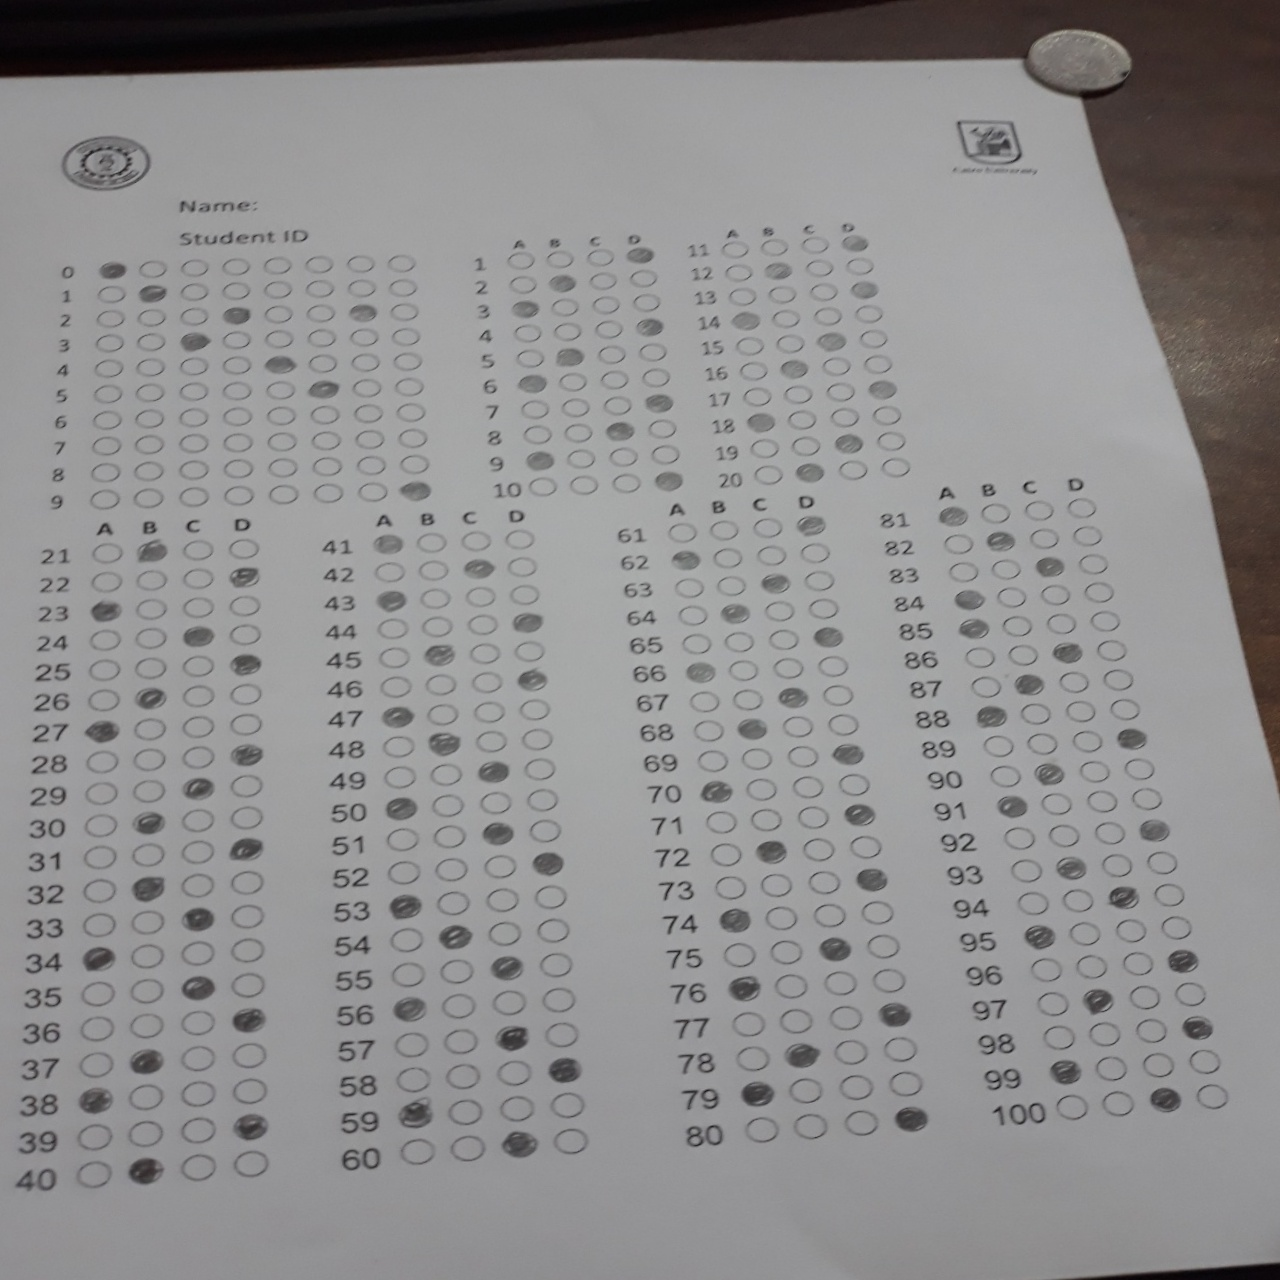not-c: (75, 1050, 117, 1078), (124, 1083, 166, 1111), (712, 571, 751, 600), (179, 1117, 222, 1144), (122, 1118, 164, 1145), (175, 1152, 217, 1179), (74, 1160, 114, 1189), (74, 1124, 115, 1151), (230, 1150, 271, 1177), (175, 1080, 215, 1107), (227, 1076, 268, 1102), (679, 629, 712, 658), (553, 1126, 586, 1155), (1099, 851, 1133, 878), (1071, 726, 1105, 753), (1046, 611, 1080, 638), (1112, 915, 1146, 942), (1073, 952, 1107, 979), (1054, 1092, 1088, 1119), (1099, 1089, 1133, 1116), (758, 871, 792, 898), (813, 900, 847, 927), (467, 639, 501, 666), (377, 670, 411, 697), (527, 817, 561, 844), (539, 951, 573, 978), (132, 566, 166, 593), (229, 680, 263, 707), (229, 771, 263, 798), (229, 803, 263, 830), (231, 1040, 265, 1067), (91, 326, 125, 353), (311, 481, 346, 506), (132, 379, 169, 403), (259, 380, 295, 404), (135, 622, 166, 651), (989, 553, 1022, 580), (1001, 612, 1034, 639), (962, 644, 995, 670), (941, 527, 974, 554), (1016, 888, 1049, 915), (1037, 989, 1070, 1016), (1088, 1021, 1121, 1048), (1133, 1017, 1166, 1044), (799, 539, 832, 566), (754, 515, 787, 542), (754, 543, 787, 570), (710, 545, 743, 572), (801, 570, 833, 597), (676, 602, 709, 629), (726, 658, 758, 685), (787, 741, 819, 768), (838, 771, 871, 798), (802, 835, 835, 862), (731, 1012, 764, 1039), (833, 1037, 866, 1064), (735, 1044, 768, 1071), (888, 1070, 921, 1097), (503, 552, 536, 579), (508, 583, 540, 610), (464, 583, 497, 610), (418, 583, 451, 610), (421, 612, 454, 639), (377, 615, 410, 642), (376, 642, 409, 669), (424, 670, 457, 697), (427, 699, 459, 726), (472, 726, 505, 753), (524, 755, 557, 782), (383, 764, 416, 791), (433, 791, 465, 818), (525, 787, 558, 813), (433, 824, 465, 851), (532, 881, 565, 908), (437, 887, 470, 914), (486, 919, 519, 946), (444, 1027, 477, 1054), (447, 1062, 479, 1089), (501, 1094, 533, 1121), (182, 564, 215, 591), (182, 593, 215, 620), (135, 595, 168, 622), (183, 683, 216, 710), (230, 710, 263, 737), (130, 840, 163, 867), (230, 937, 263, 964), (80, 1014, 113, 1041), (182, 1007, 215, 1034), (93, 352, 125, 379), (1092, 819, 1126, 845), (1017, 700, 1051, 726), (761, 597, 795, 622), (710, 842, 744, 867), (713, 874, 747, 900), (806, 869, 840, 894), (824, 968, 858, 994), (829, 1003, 863, 1029), (794, 1112, 828, 1138), (417, 557, 451, 583), (467, 611, 501, 636), (471, 697, 505, 723), (441, 993, 475, 1019), (401, 1138, 435, 1164), (89, 540, 123, 566), (181, 808, 215, 833), (229, 904, 263, 930), (129, 907, 163, 933), (82, 911, 116, 937), (181, 1046, 215, 1071), (90, 488, 124, 513), (220, 482, 256, 506), (178, 380, 213, 404), (178, 353, 213, 377), (258, 325, 293, 349), (302, 325, 338, 349), (304, 353, 339, 377), (519, 421, 554, 445), (738, 386, 774, 410), (735, 359, 770, 383), (799, 229, 835, 253), (1085, 787, 1117, 813), (1028, 523, 1060, 550), (994, 583, 1026, 610), (982, 731, 1014, 758), (1030, 955, 1062, 982), (708, 516, 740, 543), (828, 712, 859, 738), (782, 712, 813, 738), (791, 772, 823, 799), (764, 903, 796, 930), (381, 733, 413, 760), (435, 855, 467, 881), (483, 851, 515, 878), (229, 535, 260, 561), (227, 621, 259, 648), (131, 1012, 163, 1039), (90, 379, 122, 406), (264, 457, 300, 481), (177, 354, 213, 377), (218, 327, 254, 350), (260, 252, 297, 275), (300, 251, 336, 274), (305, 275, 341, 299), (306, 401, 342, 424), (354, 477, 390, 501), (386, 275, 422, 299), (511, 347, 547, 370), (564, 449, 600, 472), (610, 471, 646, 495), (595, 368, 632, 392), (622, 266, 659, 290), (721, 285, 757, 308), (789, 434, 825, 457), (823, 380, 859, 403), (856, 354, 892, 377), (1124, 754, 1157, 779), (1080, 757, 1112, 783), (1040, 583, 1073, 608), (1023, 495, 1056, 520), (979, 499, 1012, 525), (1026, 730, 1058, 756), (1040, 790, 1073, 816), (948, 559, 981, 585), (1062, 886, 1095, 912), (1158, 913, 1191, 939), (1121, 948, 1153, 974), (1042, 1024, 1075, 1050), (1095, 1055, 1128, 1081), (1197, 1082, 1230, 1108), (672, 576, 704, 601), (803, 597, 836, 622), (723, 628, 756, 654), (730, 686, 763, 712), (819, 682, 852, 708), (694, 716, 727, 742), (696, 748, 729, 774), (704, 808, 737, 833), (749, 805, 782, 831), (795, 804, 828, 830), (849, 832, 881, 858), (860, 898, 893, 924), (871, 966, 904, 992), (775, 972, 808, 998), (743, 1116, 776, 1142), (504, 525, 537, 551), (512, 638, 545, 663), (469, 668, 502, 694), (517, 695, 550, 721), (430, 761, 463, 787), (481, 791, 513, 817), (486, 885, 519, 911), (392, 926, 424, 952), (393, 961, 425, 987), (491, 988, 524, 1014), (542, 986, 574, 1012), (546, 1021, 579, 1047), (396, 1030, 429, 1056), (396, 1067, 429, 1092), (497, 1060, 530, 1085), (448, 1099, 481, 1125), (182, 537, 215, 563), (89, 568, 122, 594), (229, 592, 261, 618), (182, 652, 215, 678), (134, 653, 166, 679), (87, 658, 120, 683), (135, 716, 168, 742), (182, 743, 215, 769), (182, 839, 215, 865), (230, 870, 263, 896), (182, 871, 215, 897), (83, 878, 116, 904), (131, 942, 164, 968), (182, 939, 215, 965), (231, 972, 264, 998), (130, 979, 163, 1005), (88, 459, 121, 485), (88, 406, 121, 431), (1144, 850, 1178, 874), (1058, 668, 1092, 693), (971, 675, 1005, 700), (771, 654, 805, 679), (839, 1075, 873, 1099), (384, 826, 418, 851), (132, 302, 166, 327), (217, 379, 251, 403), (224, 277, 258, 301), (388, 326, 422, 350), (636, 340, 670, 365), (134, 257, 169, 280), (264, 481, 299, 504), (260, 278, 295, 301), (356, 451, 392, 475), (347, 324, 382, 347), (343, 250, 379, 273), (400, 451, 435, 475), (511, 319, 546, 342), (509, 272, 544, 295), (543, 248, 578, 272), (561, 418, 597, 442), (571, 471, 606, 495), (595, 342, 631, 366), (594, 315, 629, 339), (592, 292, 627, 315), (629, 292, 665, 315), (648, 443, 683, 467), (745, 435, 781, 458), (735, 332, 770, 355), (719, 263, 754, 286), (763, 282, 798, 306), (772, 331, 808, 354), (835, 457, 870, 481), (799, 253, 835, 277), (879, 457, 914, 481), (1110, 695, 1142, 721), (1131, 785, 1163, 811), (1065, 697, 1097, 723), (1048, 822, 1080, 847), (1012, 856, 1043, 881), (1003, 826, 1035, 852), (990, 763, 1022, 789), (1152, 880, 1184, 906), (1070, 920, 1102, 946), (1143, 1051, 1175, 1077), (769, 626, 801, 652), (687, 687, 719, 713), (745, 774, 777, 799), (866, 932, 898, 958), (884, 1035, 915, 1061), (845, 1109, 877, 1135), (519, 727, 551, 753), (537, 917, 568, 942), (552, 1091, 584, 1117), (181, 713, 212, 738), (132, 779, 164, 805), (84, 811, 116, 837), (82, 845, 114, 871), (130, 433, 166, 455), (387, 302, 423, 325), (755, 238, 791, 260), (1007, 641, 1040, 666), (1186, 1048, 1219, 1073), (665, 519, 697, 544), (818, 654, 851, 679), (738, 745, 771, 770), (722, 942, 755, 967), (768, 939, 801, 964), (788, 1076, 821, 1101), (457, 526, 490, 551), (413, 531, 445, 556), (374, 559, 407, 584), (387, 859, 420, 884), (440, 959, 472, 983), (450, 1136, 483, 1160), (89, 627, 122, 652), (86, 689, 118, 714), (84, 748, 117, 772), (132, 748, 165, 772), (86, 779, 118, 804), (81, 980, 114, 1005), (89, 433, 122, 457), (135, 355, 169, 379), (132, 488, 166, 511), (178, 304, 212, 327), (392, 400, 425, 423), (526, 474, 560, 497), (608, 444, 642, 468), (583, 245, 617, 268), (638, 366, 672, 389), (765, 307, 799, 331), (783, 382, 817, 406), (783, 407, 817, 430), (828, 407, 862, 430), (821, 354, 855, 377), (842, 256, 876, 279), (93, 306, 128, 328), (132, 406, 168, 428), (177, 459, 212, 482), (176, 406, 211, 428), (263, 404, 298, 427), (257, 302, 292, 325), (178, 257, 213, 279), (300, 301, 335, 324), (349, 348, 384, 370), (350, 375, 386, 397), (517, 399, 552, 421), (504, 246, 539, 268), (554, 394, 590, 416), (554, 368, 590, 390), (601, 395, 636, 417), (646, 418, 681, 441), (751, 462, 787, 484), (717, 240, 753, 263), (806, 302, 842, 325), (805, 278, 840, 300), (1173, 981, 1205, 1006), (1126, 983, 1158, 1008), (779, 1007, 811, 1032), (1071, 522, 1104, 545), (1081, 579, 1114, 602), (93, 306, 127, 328), (95, 281, 129, 304), (132, 329, 166, 352), (129, 459, 163, 482), (176, 485, 210, 508), (222, 457, 256, 479), (176, 281, 210, 304), (222, 253, 256, 275), (309, 428, 343, 450), (309, 457, 343, 479), (350, 425, 384, 448), (350, 397, 384, 420), (384, 250, 418, 272), (390, 349, 424, 372), (392, 376, 425, 399), (395, 427, 429, 449), (849, 302, 883, 325), (867, 403, 901, 425), (1091, 610, 1123, 633), (264, 431, 299, 452), (176, 433, 211, 454), (222, 406, 257, 427), (342, 275, 377, 297), (855, 329, 890, 350), (1101, 669, 1133, 692), (222, 431, 256, 452), (874, 431, 908, 452), (1076, 552, 1107, 576), (1097, 636, 1128, 660), (1065, 497, 1098, 518), (587, 267, 618, 290), (549, 297, 581, 316), (553, 320, 584, 341)
taken-c: (229, 1008, 265, 1036), (127, 1047, 163, 1075), (87, 595, 123, 624), (181, 974, 216, 1002), (131, 874, 166, 903), (132, 806, 168, 835), (181, 774, 216, 802), (181, 620, 216, 648), (227, 563, 263, 591), (132, 536, 168, 564), (727, 974, 763, 1001), (878, 1000, 914, 1027), (784, 1041, 821, 1068), (893, 1107, 930, 1133), (399, 1101, 435, 1128), (75, 1085, 111, 1112), (80, 944, 116, 971), (226, 833, 263, 860), (956, 617, 994, 642), (993, 794, 1030, 819), (425, 731, 463, 757), (474, 760, 511, 785), (737, 1080, 772, 1107), (233, 1114, 268, 1141), (128, 1156, 163, 1183), (179, 906, 215, 933), (134, 685, 169, 712), (227, 651, 263, 678), (1116, 726, 1152, 751), (1033, 760, 1069, 785), (1145, 1088, 1182, 1114), (682, 659, 719, 685), (815, 938, 851, 964), (509, 611, 545, 636), (952, 588, 989, 613), (971, 707, 1008, 731), (1020, 926, 1057, 951), (1082, 989, 1119, 1014), (667, 547, 704, 572), (810, 625, 847, 649), (531, 852, 568, 877), (393, 998, 430, 1022), (229, 738, 263, 765), (383, 794, 418, 819), (88, 716, 123, 742), (1135, 819, 1171, 844), (1033, 552, 1069, 577), (1108, 887, 1144, 912), (1053, 857, 1089, 881), (981, 527, 1017, 552), (934, 503, 971, 527), (1046, 1057, 1082, 1082), (794, 513, 830, 538), (757, 572, 794, 597), (829, 742, 865, 767), (843, 803, 879, 828), (697, 779, 734, 804), (512, 667, 549, 692), (376, 702, 413, 727), (479, 821, 516, 845), (503, 1132, 539, 1157), (1163, 949, 1200, 973), (1182, 1016, 1219, 1040), (435, 925, 472, 948), (1010, 673, 1046, 697), (719, 600, 754, 625), (459, 554, 495, 579), (495, 1026, 530, 1050), (399, 481, 434, 505), (1047, 640, 1083, 663), (774, 685, 810, 708), (852, 867, 888, 891), (420, 644, 456, 667), (486, 956, 523, 980), (388, 894, 424, 918), (753, 839, 787, 864), (731, 716, 767, 740), (372, 532, 407, 556), (372, 588, 407, 612), (549, 1058, 584, 1082), (719, 908, 755, 931), (263, 353, 297, 374), (346, 302, 380, 324), (510, 297, 544, 318), (622, 243, 656, 264), (631, 316, 665, 338), (651, 471, 685, 492), (727, 309, 761, 331), (760, 259, 794, 280), (849, 279, 883, 300), (306, 377, 339, 399), (554, 346, 587, 367), (744, 411, 777, 433), (863, 379, 896, 400), (515, 373, 549, 393), (602, 420, 636, 440), (792, 463, 826, 483), (525, 450, 557, 471), (779, 358, 812, 377), (815, 331, 847, 350), (842, 233, 874, 253), (549, 273, 580, 293), (641, 393, 673, 413), (835, 434, 866, 454), (181, 331, 209, 350), (135, 282, 164, 301), (222, 307, 251, 326), (97, 259, 125, 278)
